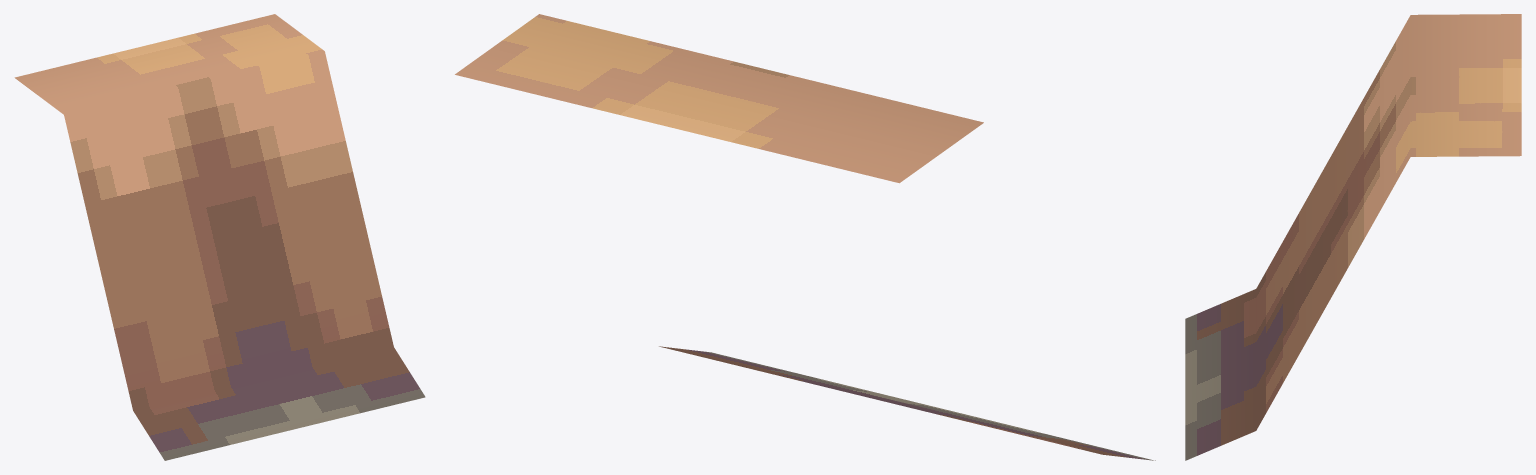
3 renders of one model, left to right at view 1: azimuth 30°, elevation 25°; view 2: azimuth 150°, elevation 25°; view 3: azimuth 270°, elevation 25°, orthographic. The views are drawn at different scales.
Size of the model in its own units: 1 by 1 by 1.
Materials: 1 (1 with a texture image).
